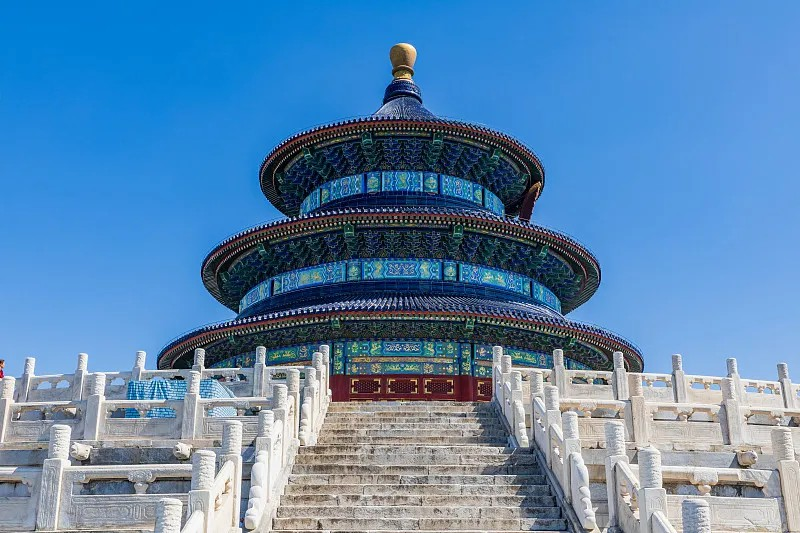Heaven: (155, 44, 645, 400)
